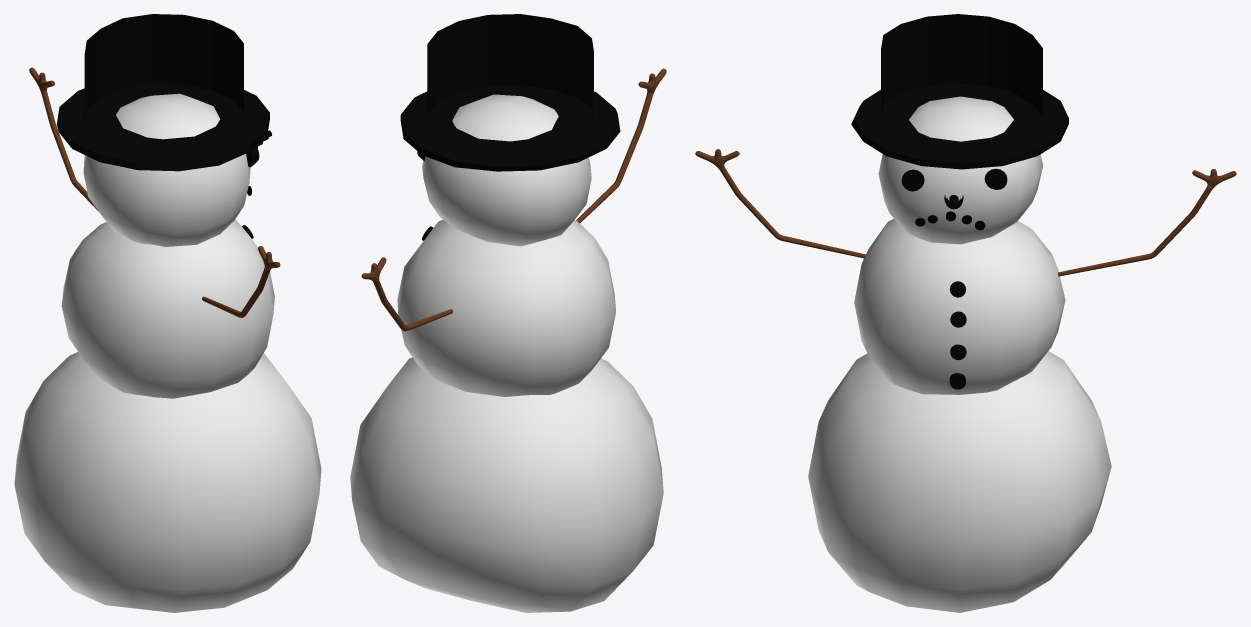
File: BadsnowMan.fbx
The picture shows the model from 3 angles, left to right: view 1: azimuth 30°, elevation 25°; view 2: azimuth 150°, elevation 25°; view 3: azimuth 270°, elevation 25°; orthographic projection. The views are drawn at different scales.
Parts seen in each view (by area): view 1: Cube, Cube.001, Walec.002, Cube.002, Kostka.001, Kostka.004; view 2: Cube, Cube.001, Walec.002, Cube.002, Kostka.004, Kostka.001; view 3: Cube, Cube.001, Walec.002, Cube.002, Kostka.001, Kostka.004.
Boxes of the visible parts, x1,y1,x2,y2 form: Cube: (14, 352, 321, 612); Cube.001: (61, 219, 274, 398); Walec.002: (56, 14, 271, 238); Cube.002: (83, 93, 250, 246); Kostka.001: (29, 67, 98, 211); Kostka.004: (202, 246, 280, 317); Cube: (350, 357, 663, 612); Cube.001: (397, 219, 615, 396); Walec.002: (400, 14, 620, 240); Cube.002: (422, 94, 591, 246); Kostka.004: (576, 68, 666, 223); Kostka.001: (361, 257, 452, 331); Cube: (808, 351, 1111, 612); Cube.001: (854, 219, 1065, 394); Walec.002: (851, 14, 1068, 389); Cube.002: (878, 96, 1043, 244); Kostka.001: (1058, 169, 1236, 276); Kostka.004: (695, 149, 866, 258).
Size of the model in its own units: 168 by 322 by 299.
